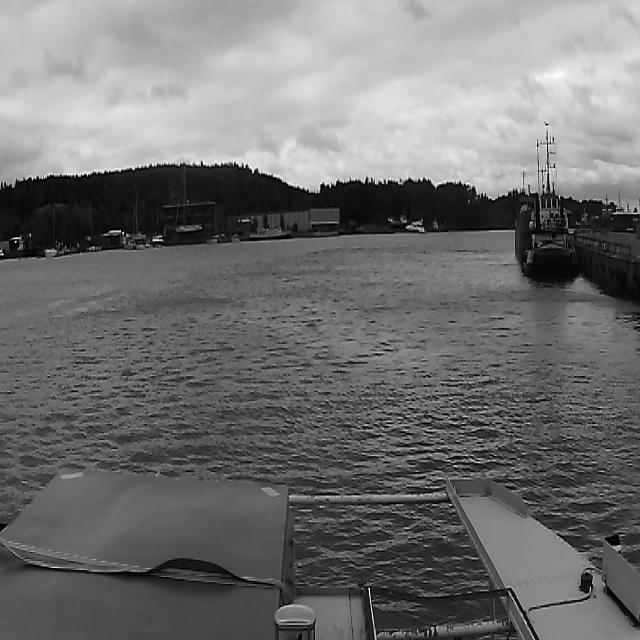ship: (523, 129, 577, 279), (174, 164, 204, 239), (406, 218, 426, 233)
